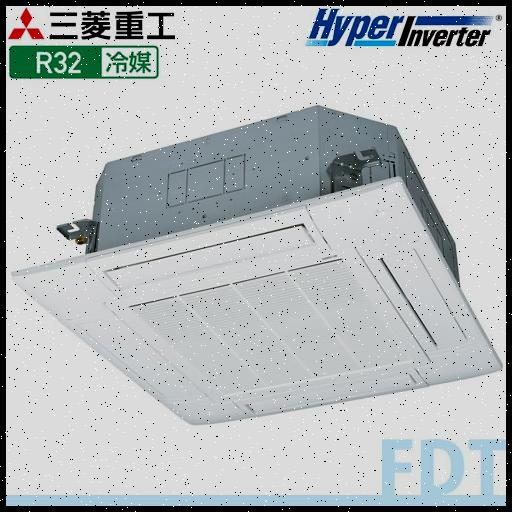4-way-ac: (11, 178, 506, 424)
